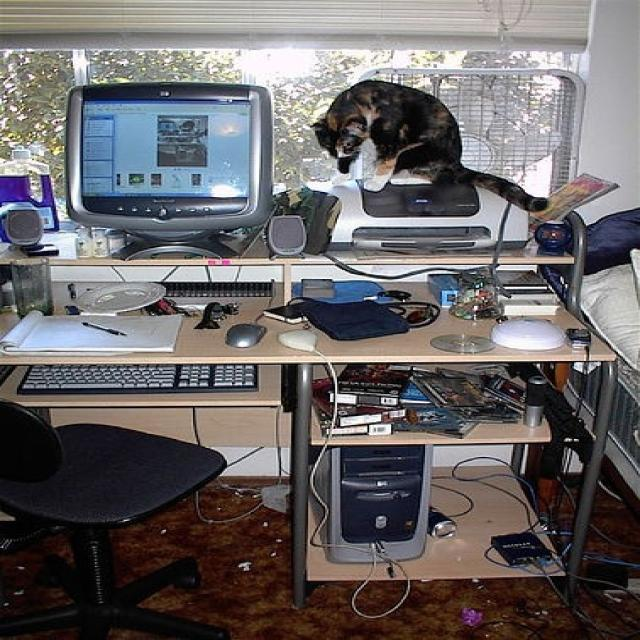cat: (309, 78, 551, 213)
chair: (1, 400, 230, 640)
tvmonitor: (66, 83, 276, 259)
